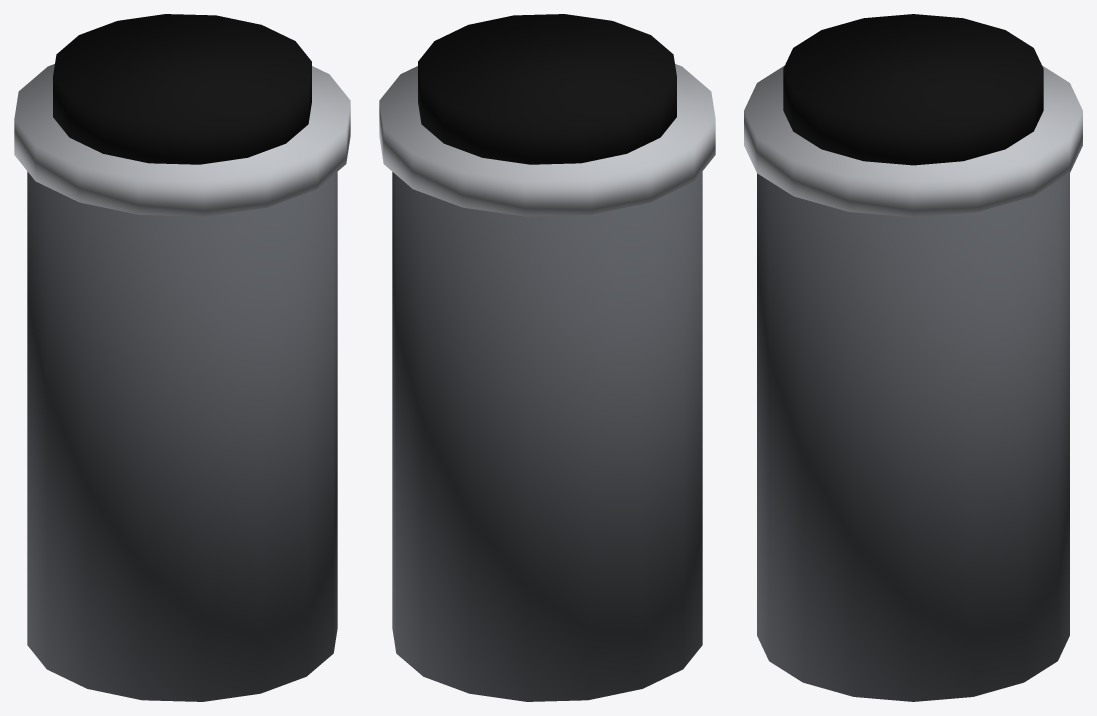
File: mall_bin.glb
The picture shows the model from 3 angles, left to right: view 1: azimuth 30°, elevation 25°; view 2: azimuth 150°, elevation 25°; view 3: azimuth 270°, elevation 25°; orthographic projection.
Parts seen in each view (by area): view 1: mall_bin; view 2: mall_bin; view 3: mall_bin.
Boxes of the visible parts, x1=… form: mall_bin: x1=14, y1=14, x2=350, y2=701; mall_bin: x1=379, y1=14, x2=715, y2=701; mall_bin: x1=744, y1=14, x2=1082, y2=701.
Size of the model in its own units: 0.52 by 0.96 by 0.52.
1 material, 1 textured.
